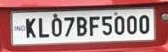0: (126, 14, 137, 35), (51, 17, 62, 37), (139, 15, 150, 35), (114, 16, 125, 35)
5: (101, 15, 113, 36)
7: (63, 17, 76, 37)
B: (76, 16, 88, 38)
F: (89, 16, 100, 36)
K: (25, 17, 37, 39)
L: (38, 17, 49, 38)
